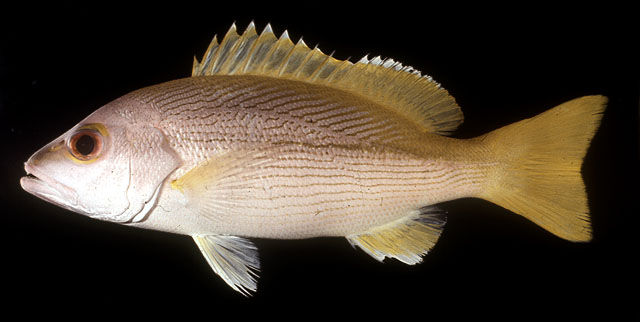fish: (19, 20, 609, 297)
